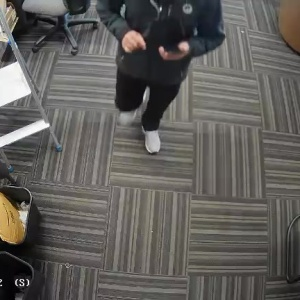person: (102, 0, 215, 158)
